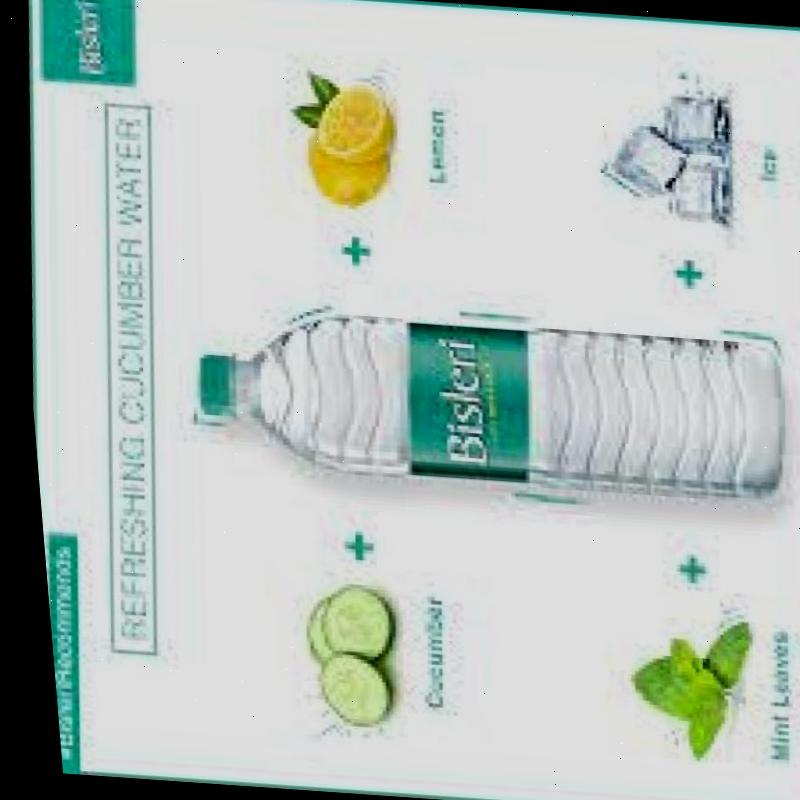botella: (178, 294, 787, 506)
